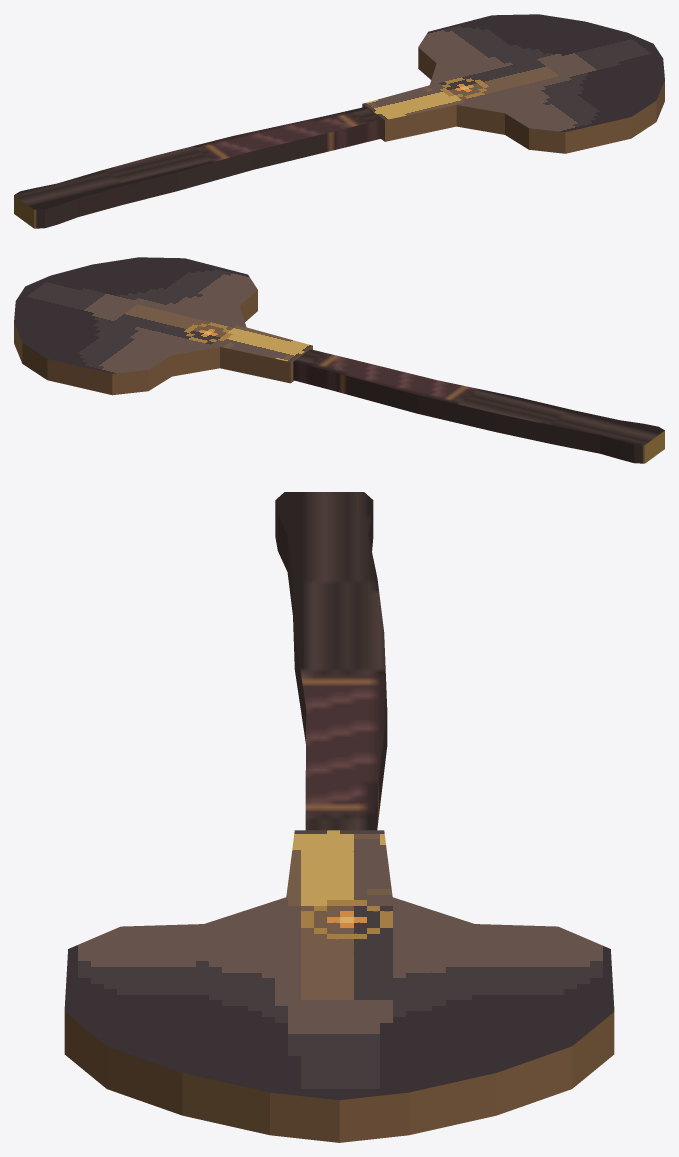
File: shovel_finished_bench.obj
3 renders of one model, top to bottom at view 1: azimuth 30°, elevation 25°; view 2: azimuth 150°, elevation 25°; view 3: azimuth 270°, elevation 25°, orthographic. The views are drawn at different scales.
Parts seen in each view (by area): view 1: geometry; view 2: geometry; view 3: geometry.
Boxes of the visible parts, left/top/right/bottom form: geometry: left=14, top=14, right=664, bottom=228; geometry: left=14, top=257, right=664, bottom=463; geometry: left=64, top=492, right=614, bottom=1142.
Bounding box in the file's own units: 0.75 × 0.0245 × 0.2853.
